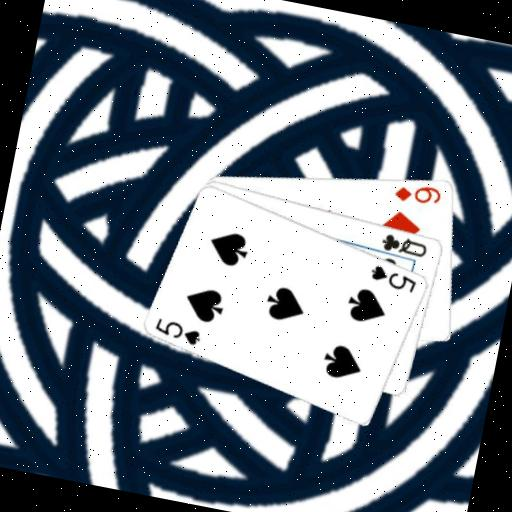5S: (151, 314, 206, 348), (367, 260, 421, 294)
6D: (391, 177, 445, 210)
QC: (378, 229, 431, 260)
